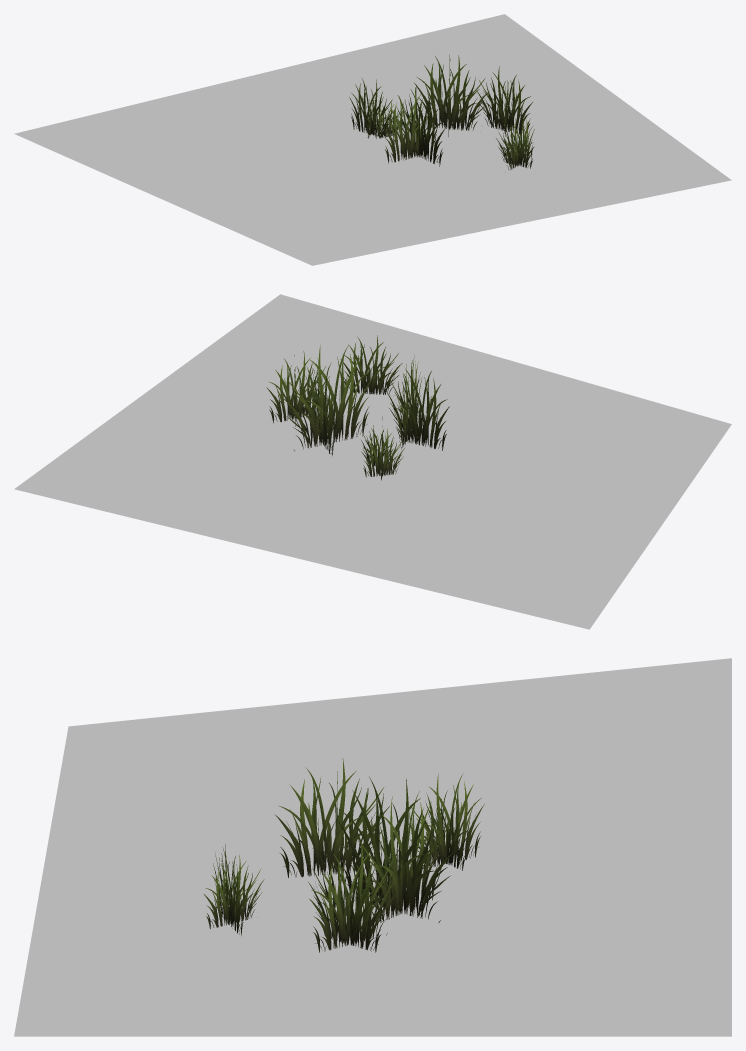
Rendered from Mud_Decal_08.fbx.
The picture shows the model from 3 angles, top to bottom: view 1: azimuth 30°, elevation 25°; view 2: azimuth 150°, elevation 25°; view 3: azimuth 270°, elevation 25°; orthographic projection. The views are drawn at different scales.
Visible parts, largest first — view 1: Mud_Decal_08; view 2: Mud_Decal_08; view 3: Mud_Decal_08.
Boxes of the visible parts, x1,y1,x2,y2 form: Mud_Decal_08: (14, 14, 731, 265); Mud_Decal_08: (14, 294, 731, 629); Mud_Decal_08: (14, 658, 731, 1036).
Bounding box in the file's own units: 6.35 × 5.09 × 1.12.
